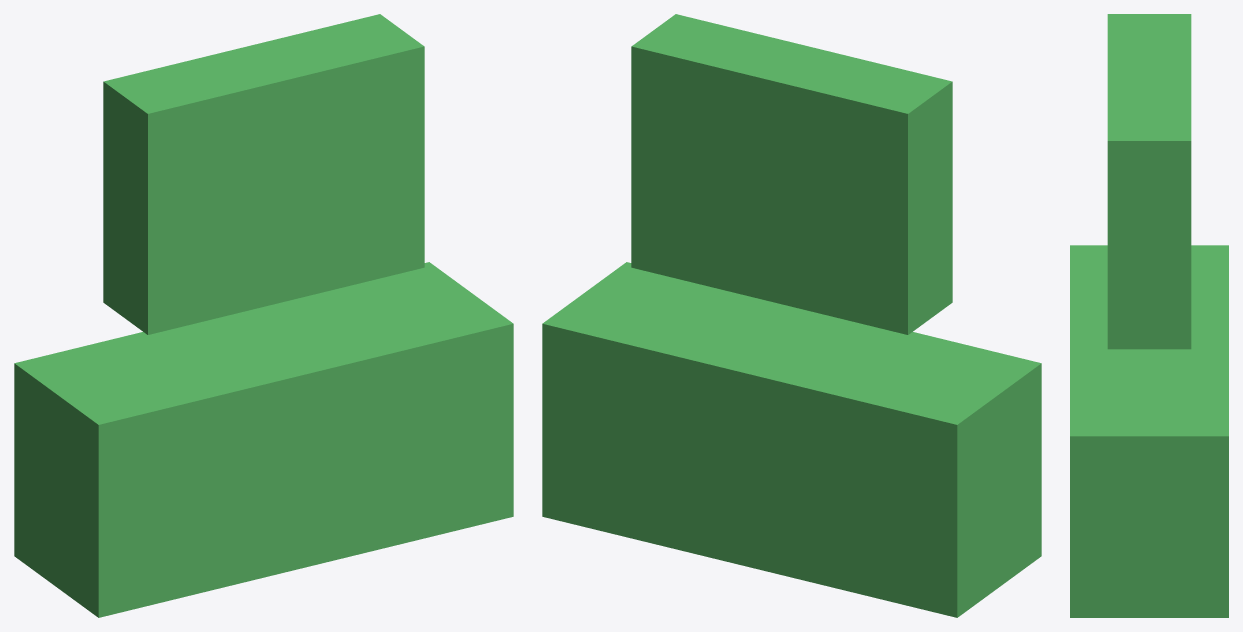
The model's file is captain_role_kit_collision.glb.
3 renders of one model, left to right at view 1: azimuth 30°, elevation 25°; view 2: azimuth 150°, elevation 25°; view 3: azimuth 270°, elevation 25°, orthographic. The views are drawn at different scales.
Parts seen in each view (by area): view 1: captain_role_kit-col-pauldrons, captain_role_kit-col-crest; view 2: captain_role_kit-col-pauldrons, captain_role_kit-col-crest; view 3: captain_role_kit-col-pauldrons, captain_role_kit-col-crest.
Part boxes in pixels (x1=…): captain_role_kit-col-pauldrons: x1=14, y1=262, x2=513, y2=617; captain_role_kit-col-crest: x1=103, y1=14, x2=424, y2=334; captain_role_kit-col-pauldrons: x1=542, y1=262, x2=1041, y2=617; captain_role_kit-col-crest: x1=631, y1=14, x2=952, y2=334; captain_role_kit-col-pauldrons: x1=1070, y1=245, x2=1228, y2=617; captain_role_kit-col-crest: x1=1107, y1=14, x2=1191, y2=349.
Bounding box in the file's own units: 1.08 × 1.17 × 0.38.
